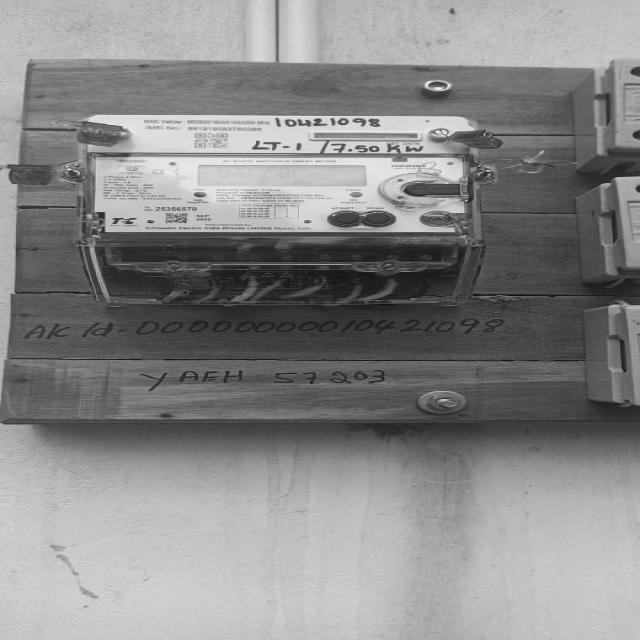meter: (83, 115, 486, 235)
